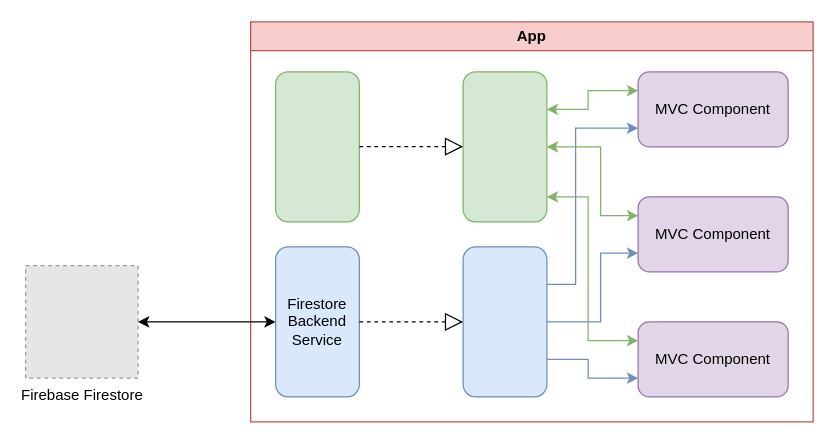
Image size: 835x444. Some labels were removed from this diagram. Grey dashed boxes stand in for pictures. The shapes that lost their labels are listed below. From the top down, each one's centre as x and y in pixels, then its label:
At point (316, 146): "GoRouter Navigation Service".
At point (504, 146): "Navigation Service Aggregator".
At point (504, 321): "Backend Service Aggregator".
